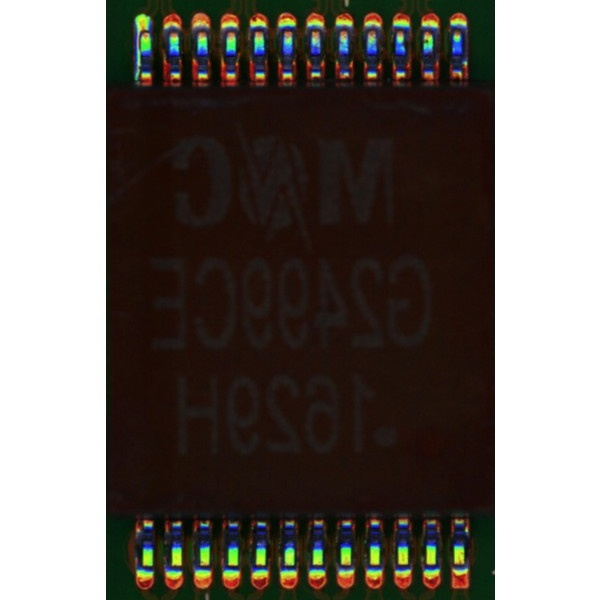Bad_podu: (137, 25, 149, 37)
Bad_qiaojiao: (135, 37, 141, 80)
